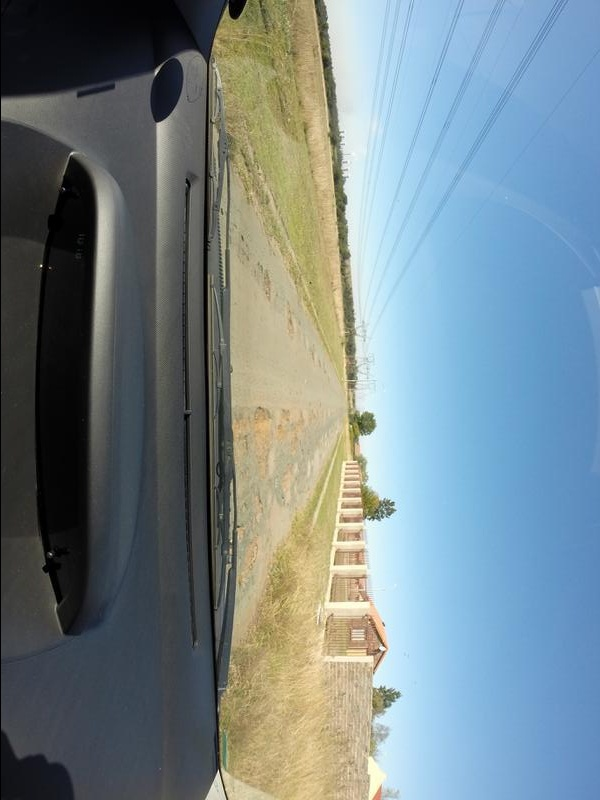pothole: (250, 407, 275, 480), (277, 465, 300, 520), (278, 399, 298, 448), (238, 543, 261, 585), (227, 234, 250, 270), (257, 269, 274, 308), (282, 302, 296, 345), (249, 492, 268, 523), (299, 330, 312, 362)
